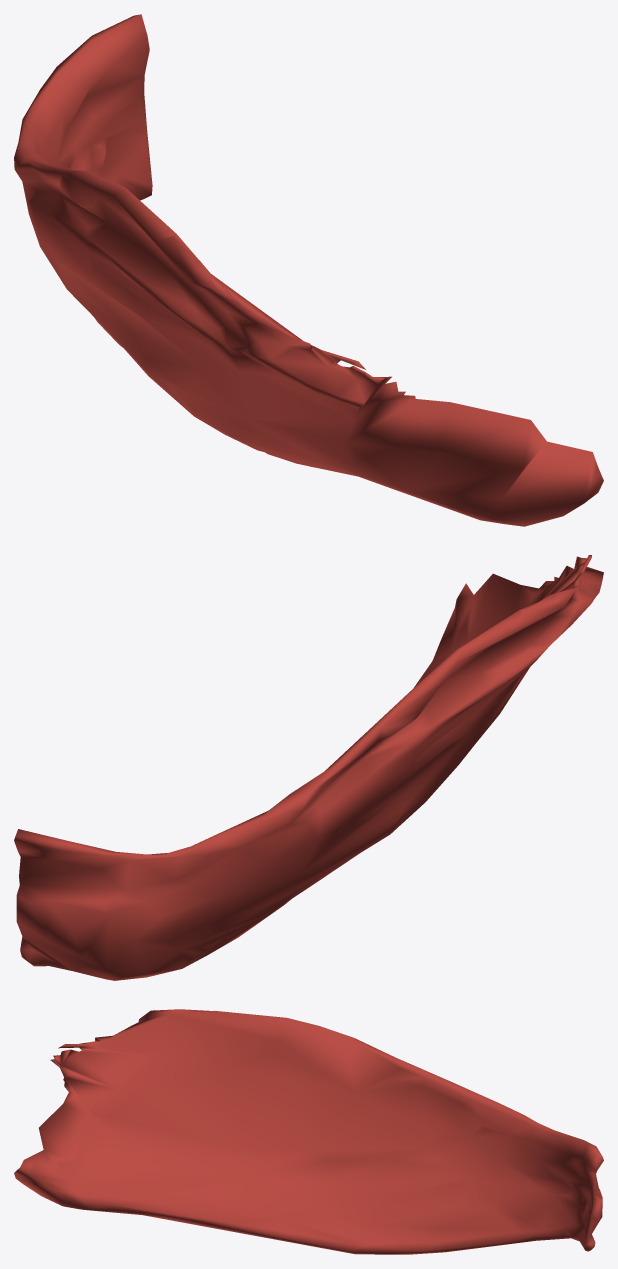
The model's file is musculos-pubo-analis-muscle-r.glb.
3 renders of one model, top to bottom at view 1: azimuth 30°, elevation 25°; view 2: azimuth 150°, elevation 25°; view 3: azimuth 270°, elevation 25°, orthographic. The views are drawn at different scales.
Parts seen in each view (by area): view 1: Pubo-analis muscle.r; view 2: Pubo-analis muscle.r; view 3: Pubo-analis muscle.r.
Part boxes in pixels (x1,y1,x2,y2): Pubo-analis muscle.r: (14,14,603,526); Pubo-analis muscle.r: (14,555,603,980); Pubo-analis muscle.r: (14,1009,603,1254).
Bounding box in the file's own units: 0.0304 × 0.0302 × 0.0843.
